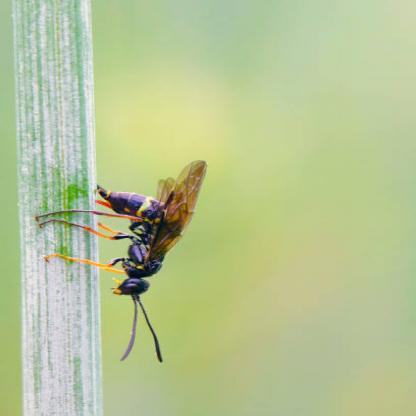sawfly: (36, 159, 212, 375)
